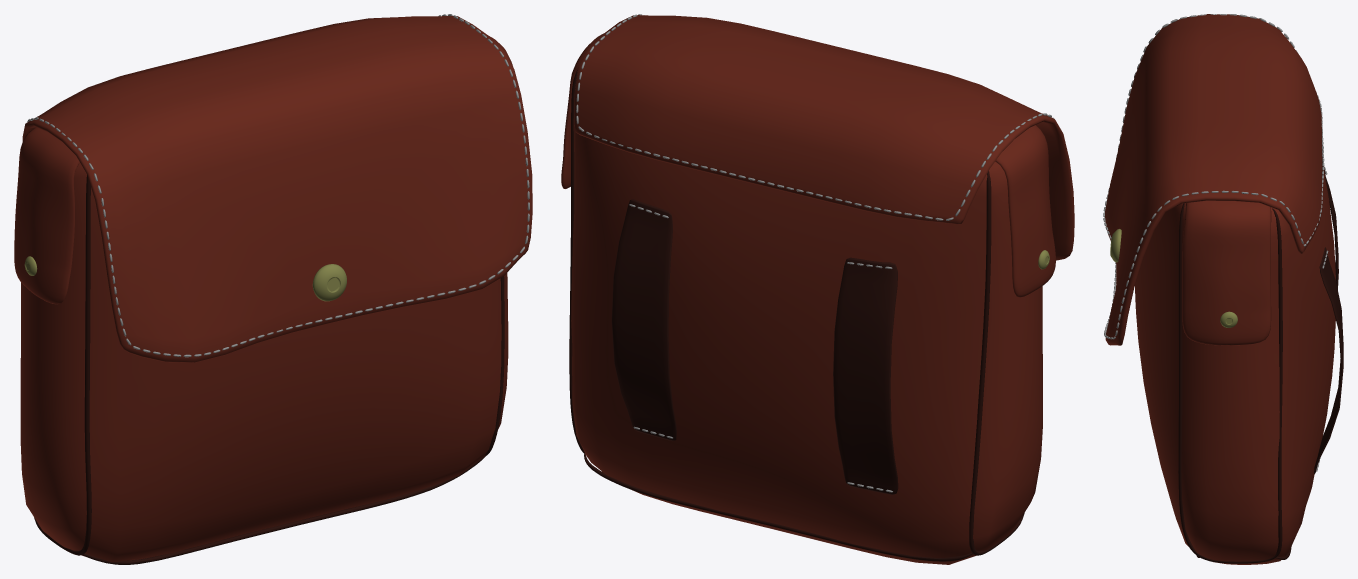
File: leather_bag.glb
3 views of the same model, side by side, from view 1: azimuth 30°, elevation 25°; view 2: azimuth 150°, elevation 25°; view 3: azimuth 270°, elevation 25° (orthographic). The views are drawn at different scales.
Parts seen in each view (by area): view 1: verx_5, niz_1, bokovoi prekol_0, NurbsPath.003_2, shov_4, xz1_6; view 2: niz_1, verx_5, Plane_3, bokovoi prekol_0, NurbsPath.003_2, shov_4; view 3: niz_1, verx_5, bokovoi prekol_0, NurbsPath.003_2, Plane_3, shov_4.
Boxes of the visible parts, <box> form: verx_5: <box>22,16,532,362</box>; niz_1: <box>20,163,508,562</box>; bokovoi prekol_0: <box>14,36,512,304</box>; NurbsPath.003_2: <box>26,131,504,564</box>; shov_4: <box>27,14,529,357</box>; xz1_6: <box>312,264,346,301</box>; niz_1: <box>571,91,1042,564</box>; verx_5: <box>574,15,1074,260</box>; Plane_3: <box>611,199,898,494</box>; bokovoi prekol_0: <box>561,33,1055,297</box>; NurbsPath.003_2: <box>569,70,1024,561</box>; shov_4: <box>576,14,1054,492</box>; niz_1: <box>1135,166,1336,564</box>; verx_5: <box>1104,14,1322,345</box>; bokovoi prekol_0: <box>1182,200,1271,345</box>; NurbsPath.003_2: <box>1178,203,1291,563</box>; Plane_3: <box>1314,166,1343,473</box>; shov_4: <box>1103,14,1328,471</box>.
Size of the model in its own units: 2.57 by 2.36 by 1.26.
